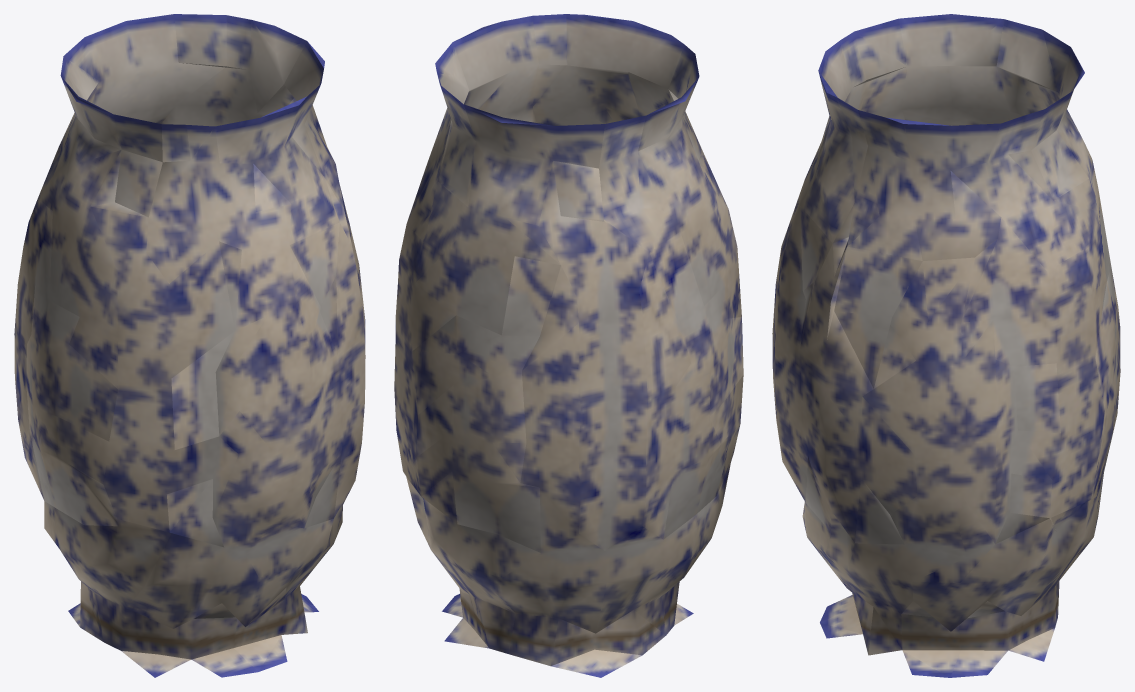
File: vase_ceramic.glb
3 renders of one model, left to right at view 1: azimuth 30°, elevation 25°; view 2: azimuth 150°, elevation 25°; view 3: azimuth 270°, elevation 25°, orthographic.
Parts seen in each view (by area): view 1: mesh; view 2: mesh; view 3: mesh.
Boxes of the visible parts, x1=… form: mesh: x1=14, y1=14, x2=365, y2=677; mesh: x1=394, y1=14, x2=743, y2=677; mesh: x1=772, y1=14, x2=1120, y2=677.
Size of the model in its own units: 0.2497 by 0.4396 by 0.2498.
1 material, 1 textured.
